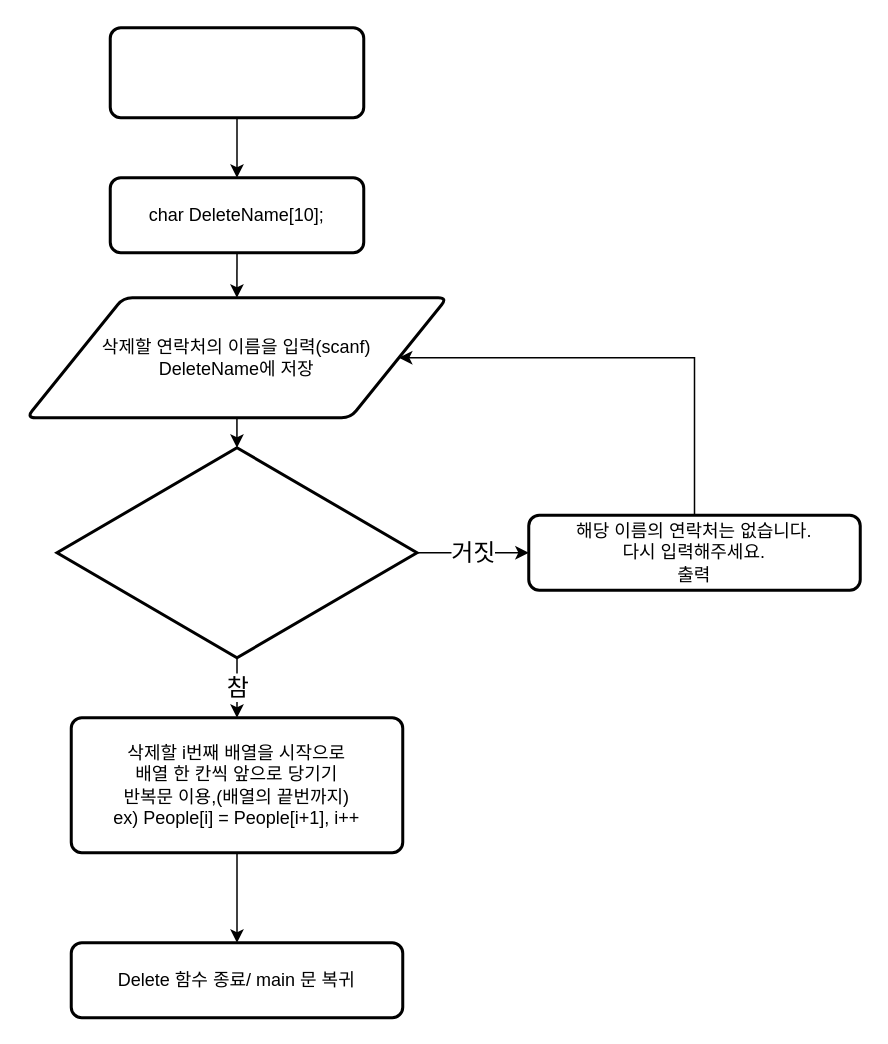
The diagram is 888 pixels wide and 1044 high, and some of its shapes have lost their labels. The centre of each missing label's shape, as x and y in pixels:
Delete 함수 호출(실행): [236,72]
People.Name == DeleteName: [236,552]
